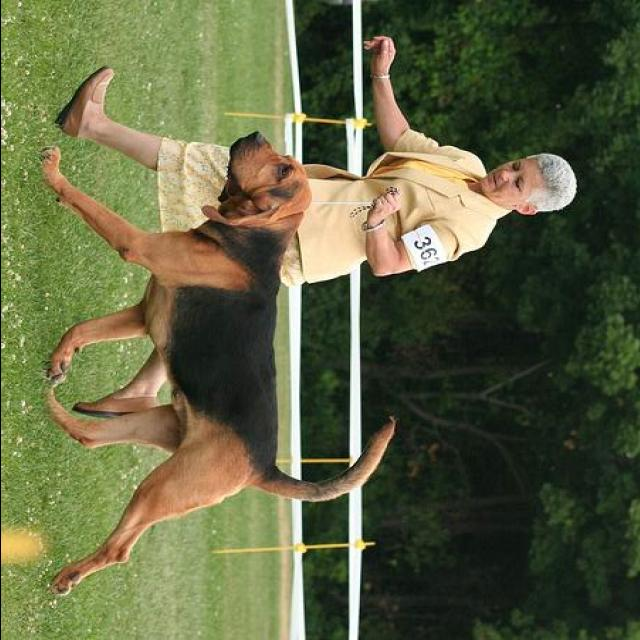bloodhound: (37, 128, 397, 599)
